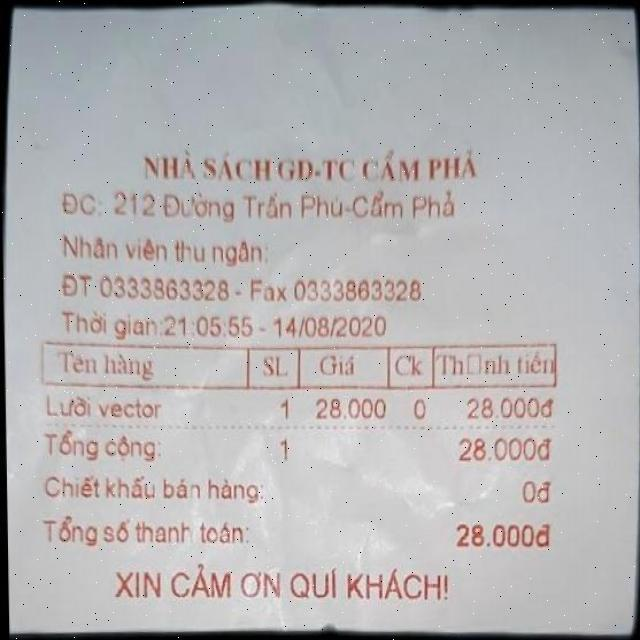Date: (264, 310, 409, 344)
Store_Name: (130, 138, 500, 188)
amount_number: (452, 514, 535, 562)
label_total: (38, 513, 250, 553)
